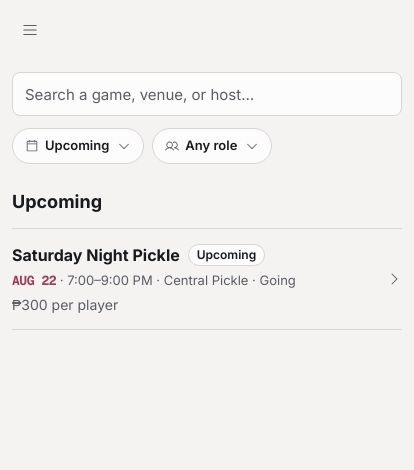
GameCollection › keeps mobile view selection behind one compact header control
Click the button named "Change game view, currently List" at x=30, y=30, box [12, 12, 48, 48]
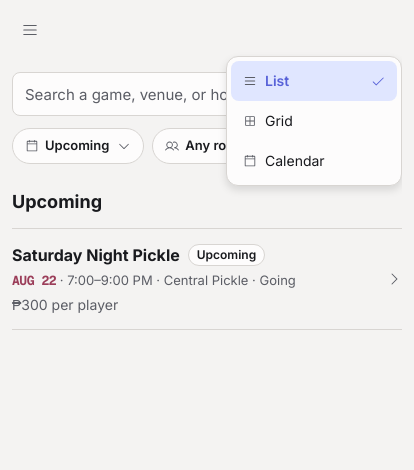
Click the menu item "Grid" at x=314, y=121, box [231, 101, 397, 141]
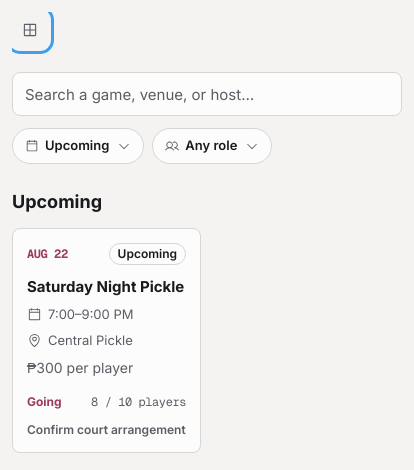
Expected: the element with test id "games-grid" is shown, [12, 191, 201, 453]
